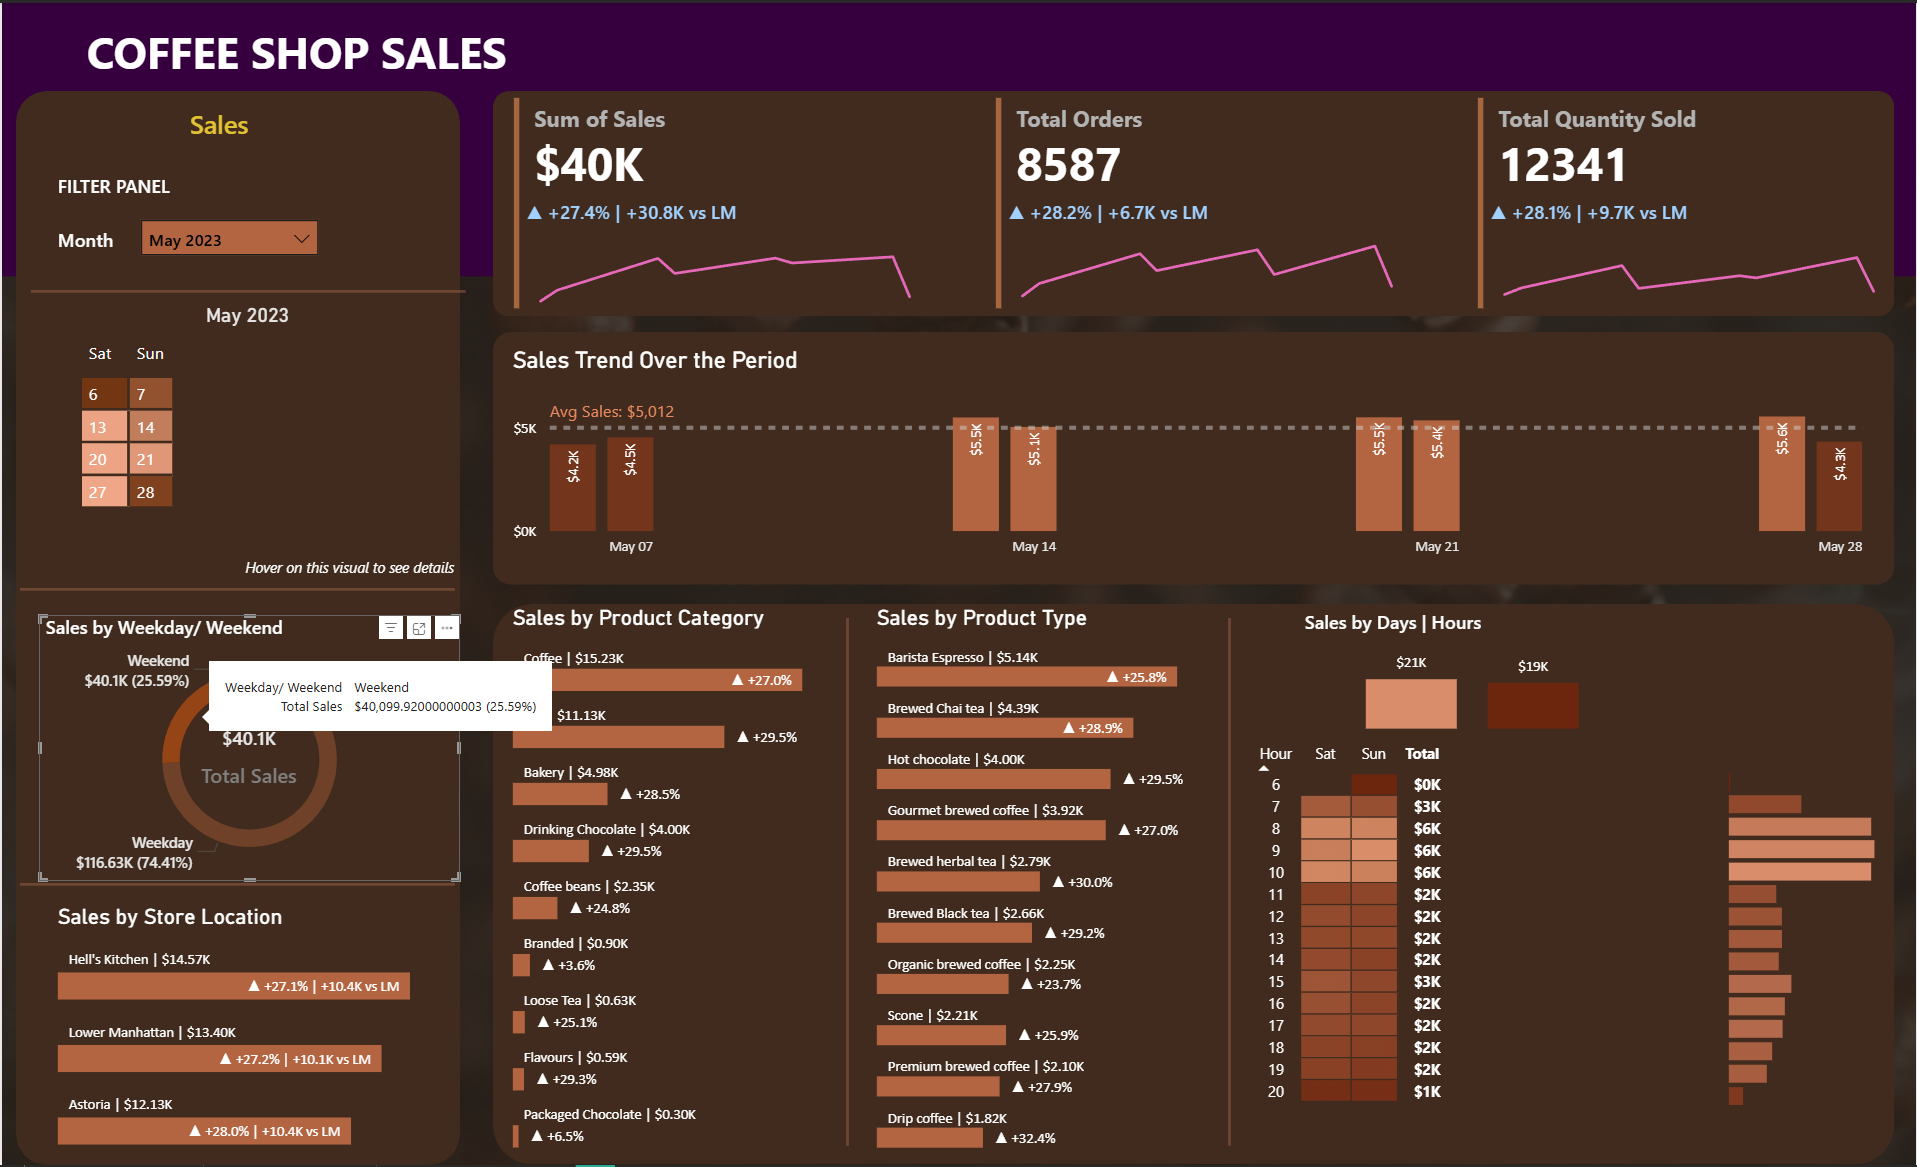

The page's visual inventory and layout, read from the dashboard file:
{"tool":"powerbi","page":{"name":"Coffee Shop Sales Report","canvas":[1400,850],"ordinal":0},"visuals":[{"type":"shape","box":[0,0,1400,200],"z":0},{"type":"shape","box":[10.5,64.4,324.7,785.7],"z":1000},{"type":"shape","box":[358.9,64.7,1025.1,164.9],"z":2000},{"type":"textbox","box":[57.4,8,328.4,56.7],"z":3000},{"type":"cardVisual","fields":{"Data":["Sum(Transactions.Sales)"]},"box":[369.1,64.7,300,164.9],"z":4000,"group":"g1"},{"type":"cardVisual","fields":{"Data":["Transactions.Total Orders"]},"box":[721.8,64.7,300,164.9],"z":4000,"group":"g2"},{"type":"cardVisual","fields":{"Data":["Transactions.Total Quantity Sold"]},"box":[1074.5,64.7,300,164.9],"z":4000,"group":"g3"},{"type":"slicer","fields":{"Values":["Date Table.Month Year"]},"box":[96.5,153.4,139.9,39.7],"z":4000},{"type":"group","id":"g1","title":"Group 1","box":[369.1,64.7,309.5,164.9],"z":5000},{"type":"group","id":"g2","title":"Group 1","box":[721.8,64.7,309.5,164.9],"z":6000},{"type":"lineChart","fields":{"Y":["Transactions.Total Sales"],"Category":["Date Table.Date.Variation.Date Hierarchy.Year","Date Table.Date.Variation.Date Hierarchy.Quarter","Date Table.Date.Variation.Date Hierarchy.Month","Date Table.Date.Variation.Date Hierarchy.Day"]},"box":[378.5,144.6,300,85],"z":6000,"group":"g1"},{"type":"lineChart","fields":{"Category":["Date Table.Date.Variation.Date Hierarchy.Year","Date Table.Date.Variation.Date Hierarchy.Quarter","Date Table.Date.Variation.Date Hierarchy.Month","Date Table.Date.Variation.Date Hierarchy.Day"],"Y":["Transactions.Total Orders"]},"box":[731.2,144.6,300,85],"z":6000,"group":"g2"},{"type":"lineChart","fields":{"Category":["Date Table.Date.Variation.Date Hierarchy.Year","Date Table.Date.Variation.Date Hierarchy.Quarter","Date Table.Date.Variation.Date Hierarchy.Month","Date Table.Date.Variation.Date Hierarchy.Day"],"Y":["Transactions.Total Quantity Sold"]},"box":[1083.9,144.6,300,85],"z":6000,"group":"g3"},{"type":"group","id":"g3","title":"Group 1","box":[1074.5,64.7,309.5,164.9],"z":7000},{"type":"pivotTable","fields":{"Rows":["Date Table.Week Number"],"Columns":["Date Table.Day Name"],"Values":["Min(Date Table.Day Number)"]},"box":[28.3,239,305,190],"z":8000},{"type":"card","fields":{"Values":["Min(Date Table.Month Year)"]},"box":[137.3,211.4,84.3,35.6],"z":9000},{"type":"card","fields":{"Values":["Transactions.Foot Note"]},"box":[166.4,401,176.5,24],"z":10000},{"type":"shape","box":[13.5,417.5,318,22.4],"z":11000},{"type":"shape","box":[21.1,199.8,318.2,22.5],"z":12000},{"type":"donutChart","title":"Sales by Weekday/ Weekend","fields":{"Category":["Date Table.Weekday/ Weekend"],"Y":["Transactions.Total Sales"]},"box":[26.9,447.5,308,194.7],"z":13000},{"type":"card","fields":{"Values":["Transactions.Total Sales"]},"box":[125,523.1,111.2,53.8],"z":14000},{"type":"shape","box":[13.5,633.8,318,22.4],"z":15000},{"type":"clusteredBarChart","title":"Sales by Store Location","fields":{"Category":["Transactions.store_location"],"Y":["Transactions.Placeholder","Transactions.Total Sales"]},"box":[35.6,658.2,290.6,184.5],"z":16000},{"type":"shape","box":[359.2,240.9,1025.1,184.8],"z":17000},{"type":"columnChart","title":"Sales Trend Over the Period","fields":{"Category":["Transactions.transaction_date"],"Y":["Transactions.Total Sales"]},"box":[368.9,250.7,997.4,162.4],"z":18000},{"type":"shape","box":[359.2,440,1025.1,410],"z":19000},{"type":"clusteredBarChart","title":"Sales by Product Category","fields":{"Category":["Transactions.product_category"],"Y":["Transactions.Placeholder","Transactions.Total Sales"]},"box":[368.9,440,249.9,403.3],"z":20000},{"type":"shape","box":[602.4,449.7,32.9,386.1],"z":21000},{"type":"clusteredBarChart","title":"Sales by Product Type","fields":{"Y":["Transactions.Placeholder","Transactions.Total Sales"],"Category":["Transactions.product_type"]},"box":[635.3,440,249.9,403.3],"z":22000},{"type":"shape","box":[881.5,449.7,32.9,386.1],"z":23000},{"type":"pivotTable","fields":{"Rows":["Transactions.Hour"],"Values":["Transactions.Total Sales"],"Columns":["Date Table.Day Name"]},"box":[909.1,536.5,369.6,308.3],"z":24000},{"type":"barChart","fields":{"Category":["Transactions.Hour"],"Y":["Transactions.Total Sales"]},"box":[1257.8,550,116.7,261.1],"z":25000},{"type":"columnChart","title":"Sales by Days | Hours","fields":{"Y":["Transactions.Total Sales"],"Category":["Date Table.Day Name"]},"box":[948,443.7,259.6,92.8],"z":26000},{"type":"textbox","box":[35.9,159.4,60.6,27.7],"z":27000},{"type":"textbox","box":[35.9,119.7,96.5,27.7],"z":28000},{"type":"textbox","box":[132.4,71.1,77.8,38.9],"z":29000}]}

Visuals, with their boxes in screenshot pixels (x1, y1, x2, y2), scaled from the page's 1400x850 canvas onto the 1917x1167 screenshot:
shape: box(0, 0, 1916, 275)
shape: box(14, 88, 459, 1166)
shape: box(491, 89, 1895, 315)
textbox: box(79, 11, 528, 89)
cardVisual - Sum(Transactions.Sales): box(505, 89, 916, 315)
cardVisual - Transactions.Total Orders: box(988, 89, 1399, 315)
cardVisual - Transactions.Total Quantity Sold: box(1471, 89, 1882, 315)
slicer - Date Table.Month Year: box(132, 211, 324, 265)
"Group 1" group: box(505, 89, 929, 315)
"Group 1" group: box(988, 89, 1412, 315)
lineChart - Transactions.Total Sales x Date Table.Date.Variation.Date Hierarchy.Year: box(518, 199, 929, 315)
lineChart - Date Table.Date.Variation.Date Hierarchy.Year x Date Table.Date.Variation.Date Hierarchy.Quarter: box(1001, 199, 1412, 315)
lineChart - Date Table.Date.Variation.Date Hierarchy.Year x Date Table.Date.Variation.Date Hierarchy.Quarter: box(1484, 199, 1895, 315)
"Group 1" group: box(1471, 89, 1895, 315)
pivotTable - Date Table.Week Number x Date Table.Day Name: box(39, 328, 456, 589)
card - Min(Date Table.Month Year): box(188, 290, 303, 339)
card - Transactions.Foot Note: box(228, 551, 470, 584)
shape: box(18, 573, 454, 604)
shape: box(29, 274, 465, 305)
"Sales by Weekday/ Weekend" donutChart: box(37, 614, 459, 882)
card - Transactions.Total Sales: box(171, 718, 323, 792)
shape: box(18, 870, 454, 901)
"Sales by Store Location" clusteredBarChart: box(49, 904, 447, 1157)
shape: box(492, 331, 1896, 584)
"Sales Trend Over the Period" columnChart: box(505, 344, 1871, 567)
shape: box(492, 604, 1896, 1166)
"Sales by Product Category" clusteredBarChart: box(505, 604, 847, 1158)
shape: box(825, 617, 870, 1148)
"Sales by Product Type" clusteredBarChart: box(870, 604, 1212, 1158)
shape: box(1207, 617, 1252, 1148)
pivotTable - Transactions.Hour x Transactions.Total Sales: box(1245, 737, 1751, 1160)
barChart - Transactions.Hour x Transactions.Total Sales: box(1722, 755, 1882, 1114)
"Sales by Days | Hours" columnChart: box(1298, 609, 1654, 737)
textbox: box(49, 219, 132, 257)
textbox: box(49, 164, 181, 202)
textbox: box(181, 98, 288, 151)
